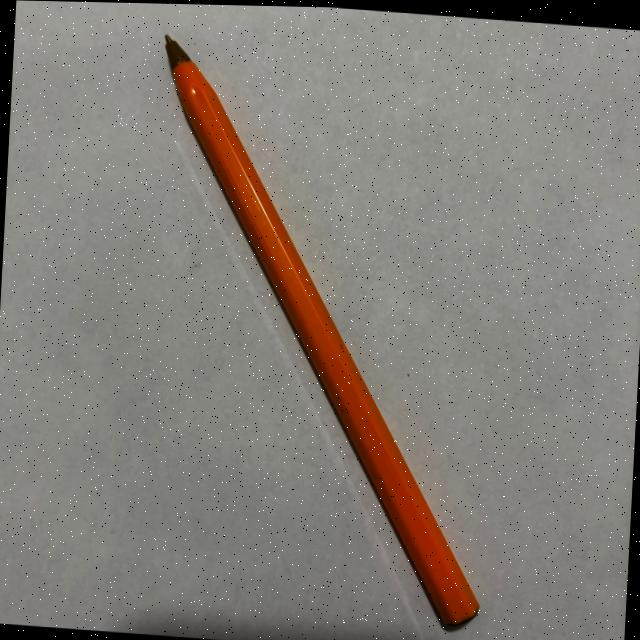pencil: (165, 37, 480, 632)
